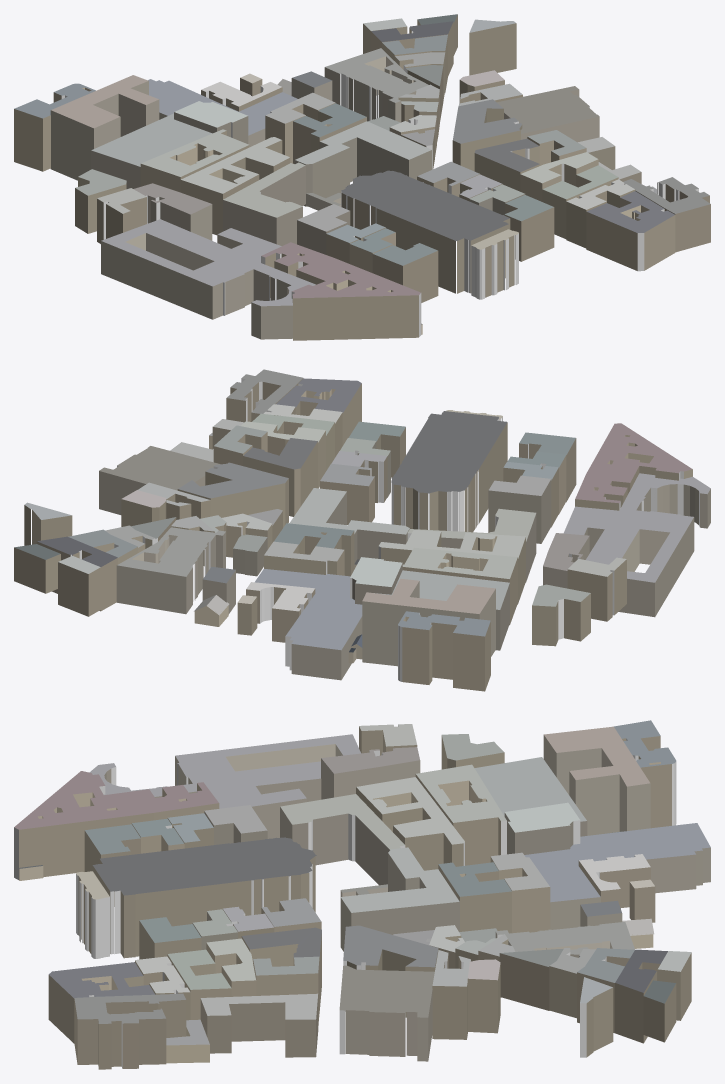
3 views of the same model, one above another, from view 1: azimuth 30°, elevation 25°; view 2: azimuth 150°, elevation 25°; view 3: azimuth 270°, elevation 25° (orthographic). The views are drawn at different scales.
Parts seen in each view (by area): view 1: tuile; view 2: tuile; view 3: tuile.
Part boxes in pixels (bbox=[...]): tuile: bbox=[14, 14, 710, 340]; tuile: bbox=[14, 369, 710, 691]; tuile: bbox=[14, 720, 710, 1069].
Size of the model in its own units: 267 by 36.8 by 265.
